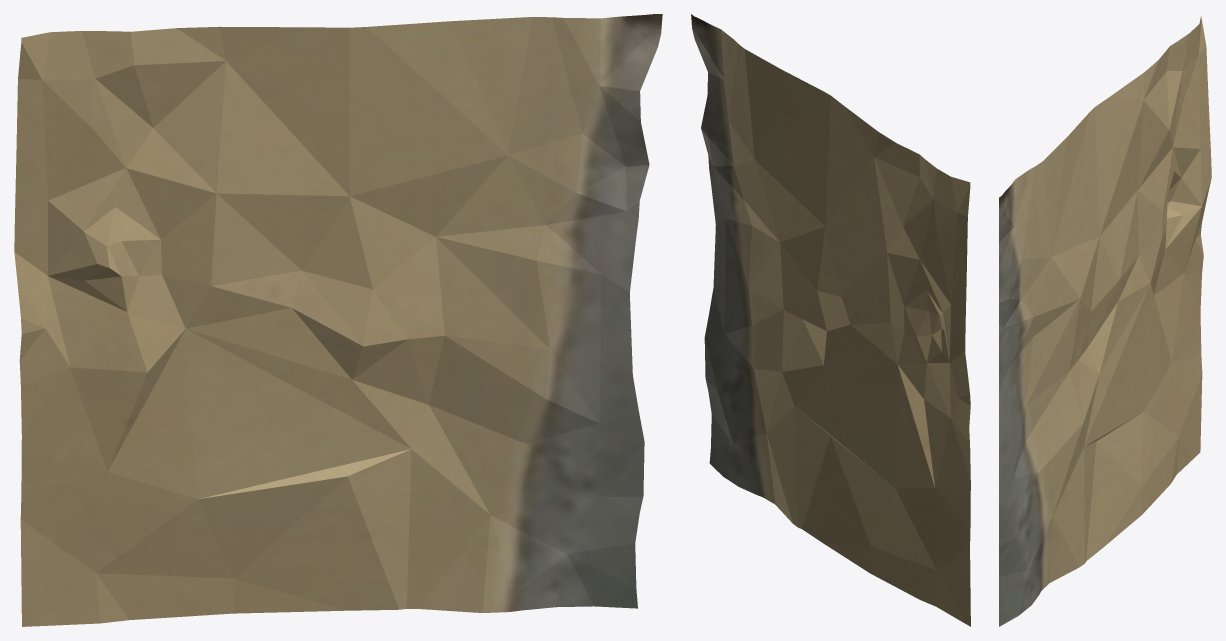
3 renders of one model, left to right at view 1: azimuth 30°, elevation 25°; view 2: azimuth 150°, elevation 25°; view 3: azimuth 270°, elevation 25°, orthographic. The views are drawn at different scales.
Bounding box in the file's own units: 0.7526 × 0.8374 × 0.3684.
2 materials, 2 textured.
